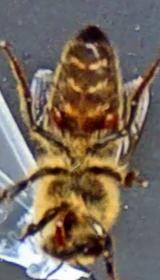varroa_mite: (99, 106, 120, 140), (44, 102, 70, 129)
